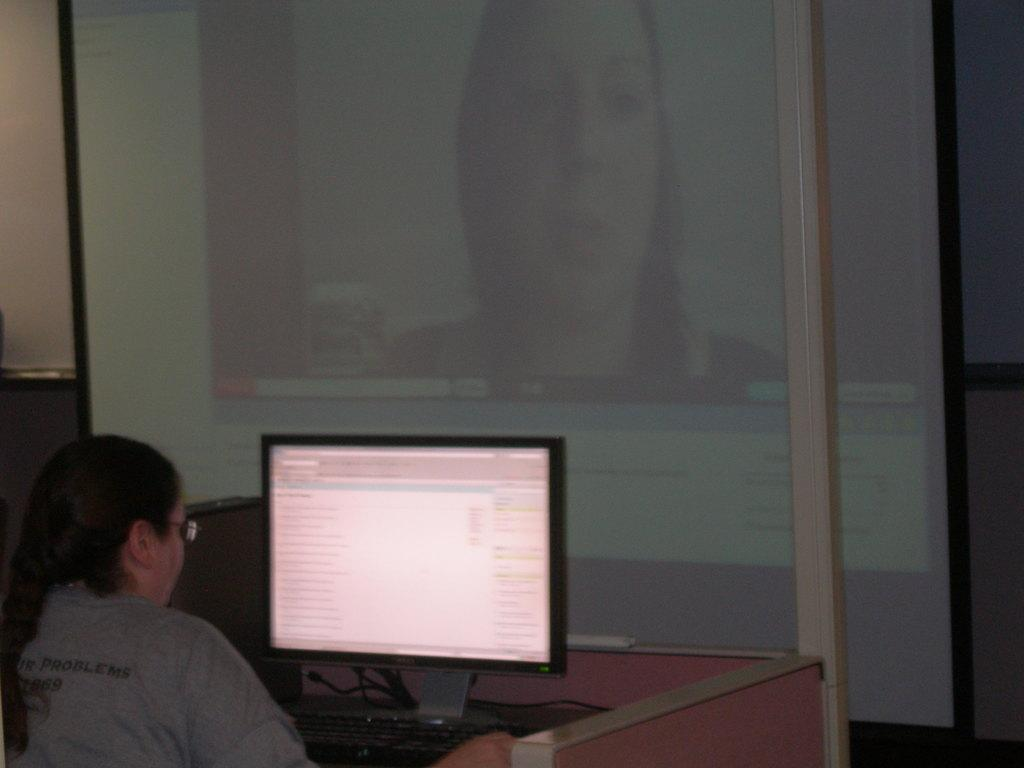Computer-monitor: (232, 449, 573, 753)
